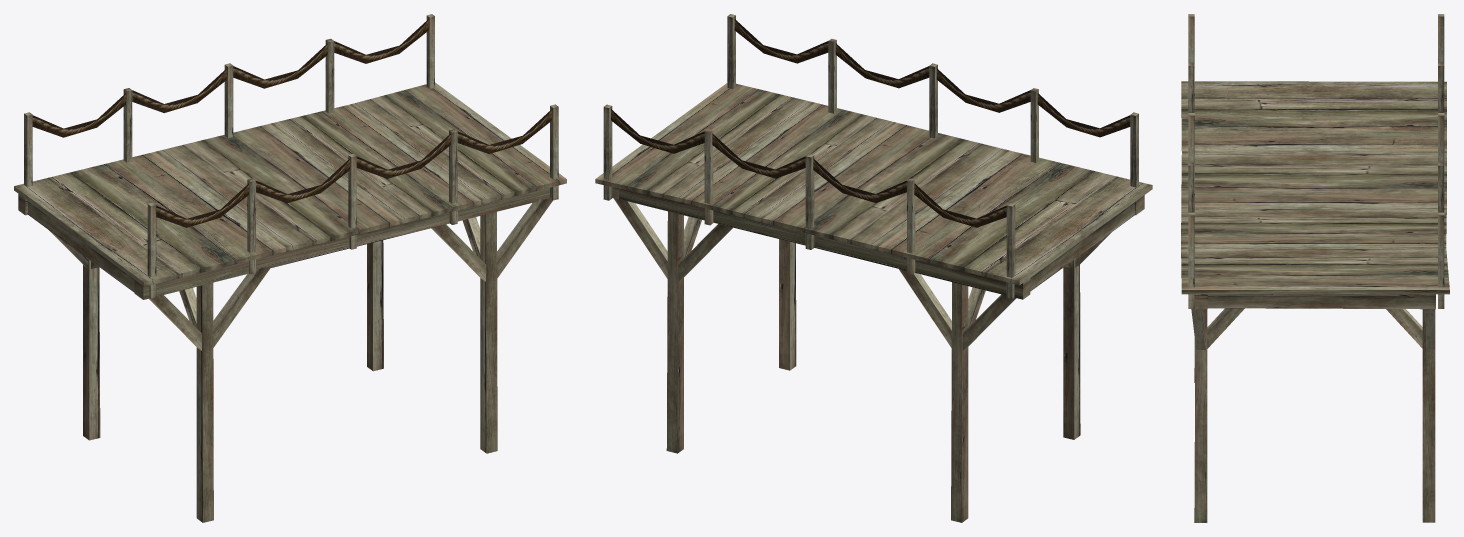
Rendered from pier_scaffold_1long.fbx.
The picture shows the model from 3 angles, left to right: view 1: azimuth 30°, elevation 25°; view 2: azimuth 150°, elevation 25°; view 3: azimuth 270°, elevation 25°; orthographic projection.
Parts seen in each view (by area): view 1: Platform1, corner_post, Frame1, corner_post2, railing1, railing2, polySurface1.001, polySurface24, polySurface22.001, polySurface22, polySurface12, polySurface12.001 (+6 smaller); view 2: Platform1, corner_post, Frame1, corner_post2, railing2, railing1, polySurface25, polySurface1, polySurface23.001, polySurface23, polySurface13, polySurface11 (+6 smaller); view 3: Platform1, corner_post2, Frame1, railing1, railing2, polySurface1.001, polySurface25, polySurface22.001, polySurface23.001.
Boxes of the visible parts, bbox=[...] form: Platform1: bbox=[14, 82, 566, 286]; corner_post: bbox=[83, 259, 213, 522]; Frame1: bbox=[18, 187, 549, 299]; corner_post2: bbox=[367, 212, 497, 453]; railing1: bbox=[147, 104, 558, 298]; railing2: bbox=[24, 14, 434, 186]; polySurface1.001: bbox=[431, 217, 485, 281]; polySurface24: bbox=[149, 287, 201, 350]; polySurface22.001: bbox=[497, 197, 552, 277]; polySurface22: bbox=[213, 266, 271, 347]; polySurface12: bbox=[356, 133, 450, 178]; polySurface12.001: bbox=[233, 43, 327, 88]; Platform1: bbox=[595, 83, 1152, 285]; corner_post: bbox=[951, 259, 1080, 522]; Frame1: bbox=[612, 187, 1144, 299]; corner_post2: bbox=[666, 211, 796, 453]; railing2: bbox=[603, 104, 1015, 298]; railing1: bbox=[727, 14, 1138, 187]; polySurface25: bbox=[678, 216, 732, 281]; polySurface1: bbox=[962, 287, 1016, 350]; polySurface23.001: bbox=[614, 198, 667, 278]; polySurface23: bbox=[899, 269, 951, 347]; polySurface13: bbox=[734, 19, 828, 63]; polySurface11: bbox=[936, 68, 1030, 112]; Platform1: bbox=[1181, 81, 1449, 294]; corner_post2: bbox=[1194, 309, 1435, 522]; Frame1: bbox=[1194, 294, 1435, 309]; railing1: bbox=[1188, 14, 1194, 308]; railing2: bbox=[1438, 14, 1444, 308]; polySurface1.001: bbox=[1207, 308, 1244, 348]; polySurface25: bbox=[1386, 309, 1422, 348]; polySurface22.001: bbox=[1191, 306, 1205, 349]; polySurface23.001: bbox=[1426, 309, 1434, 348].
Size of the model in its own units: 2774 by 2083 by 1509.
Materials: 2 (2 with a texture image).
